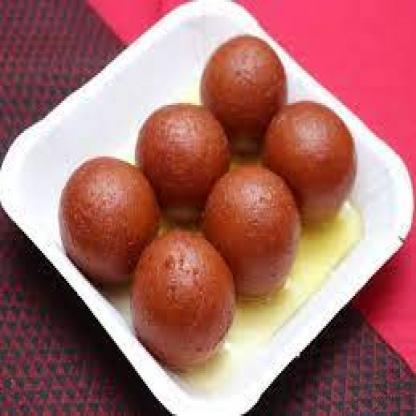gulab_jamun: (131, 230, 235, 370), (59, 158, 160, 292), (203, 165, 301, 298), (263, 102, 356, 226), (136, 104, 230, 224), (200, 35, 288, 154)
